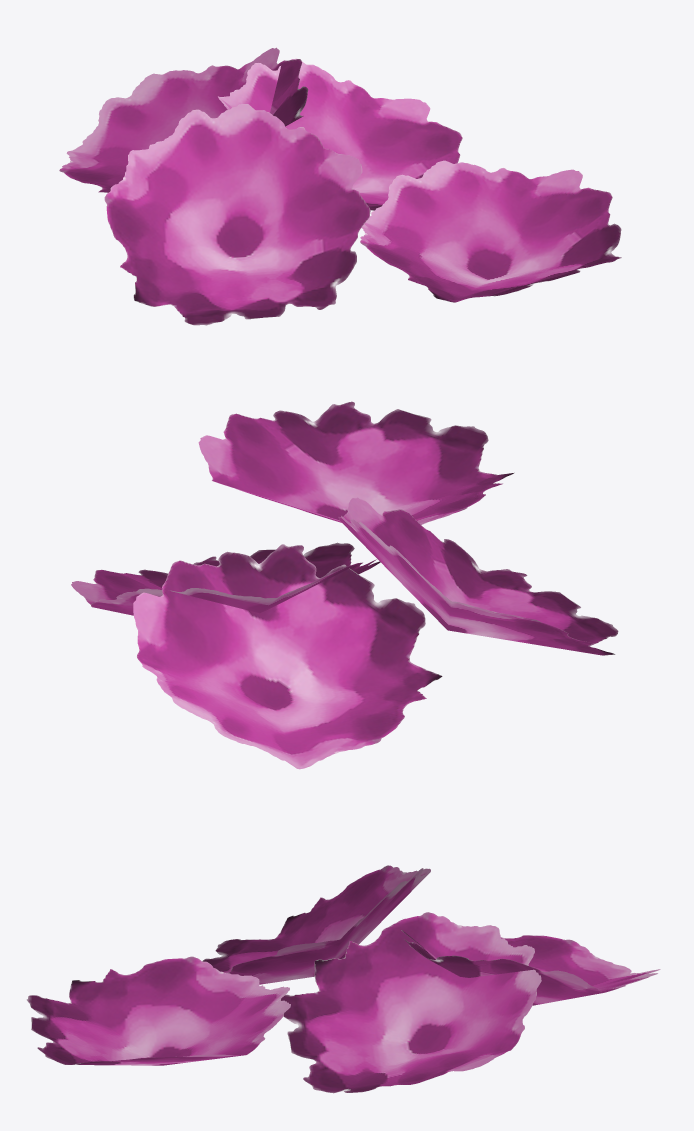
The model's file is PinkFlowers.fbx.
3 renders of one model, top to bottom at view 1: azimuth 30°, elevation 25°; view 2: azimuth 150°, elevation 25°; view 3: azimuth 270°, elevation 25°, orthographic. The views are drawn at different scales.
Visible parts, largest first — view 1: PinkFlowers; view 2: PinkFlowers; view 3: PinkFlowers.
Part boxes in pixels (left/top/right/bottom): PinkFlowers: left=59, top=47, right=621, bottom=325; PinkFlowers: left=71, top=401, right=618, bottom=769; PinkFlowers: left=26, top=865, right=660, bottom=1093.
Size of the model in its own units: 0.5294 by 0.1551 by 0.6652.
